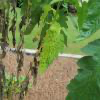Tomato Septoria leaf spot: (38, 19, 65, 76)
